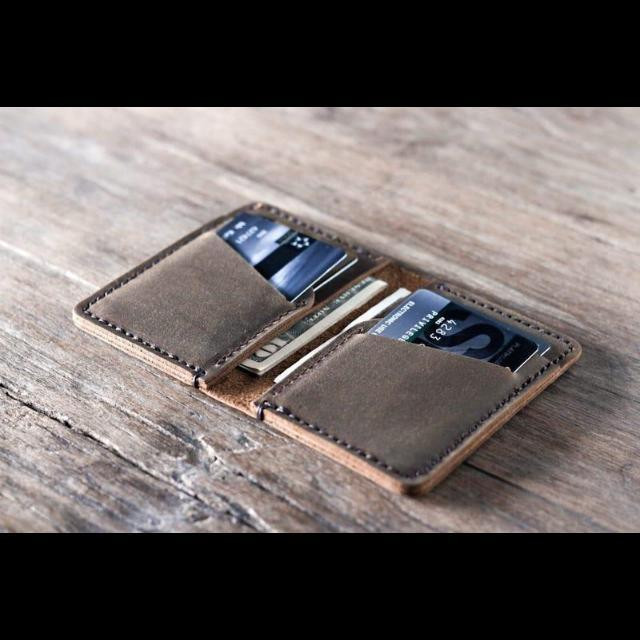wallet: (74, 201, 584, 487)
